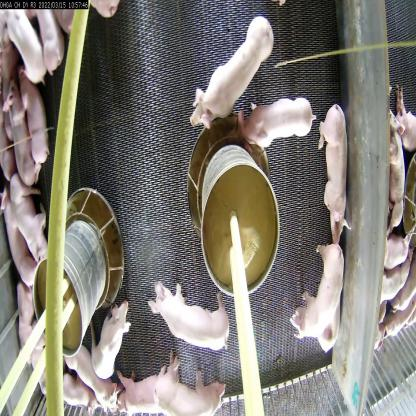Pig: (182, 23, 278, 141), (283, 232, 350, 359), (155, 278, 240, 353), (315, 98, 358, 245), (155, 353, 248, 416), (10, 170, 65, 264), (238, 85, 315, 151), (15, 60, 56, 172), (114, 355, 188, 415), (63, 344, 124, 415), (0, 189, 39, 300), (15, 281, 50, 393), (85, 303, 129, 379), (1, 93, 35, 185), (8, 2, 42, 90), (30, 0, 69, 72)
